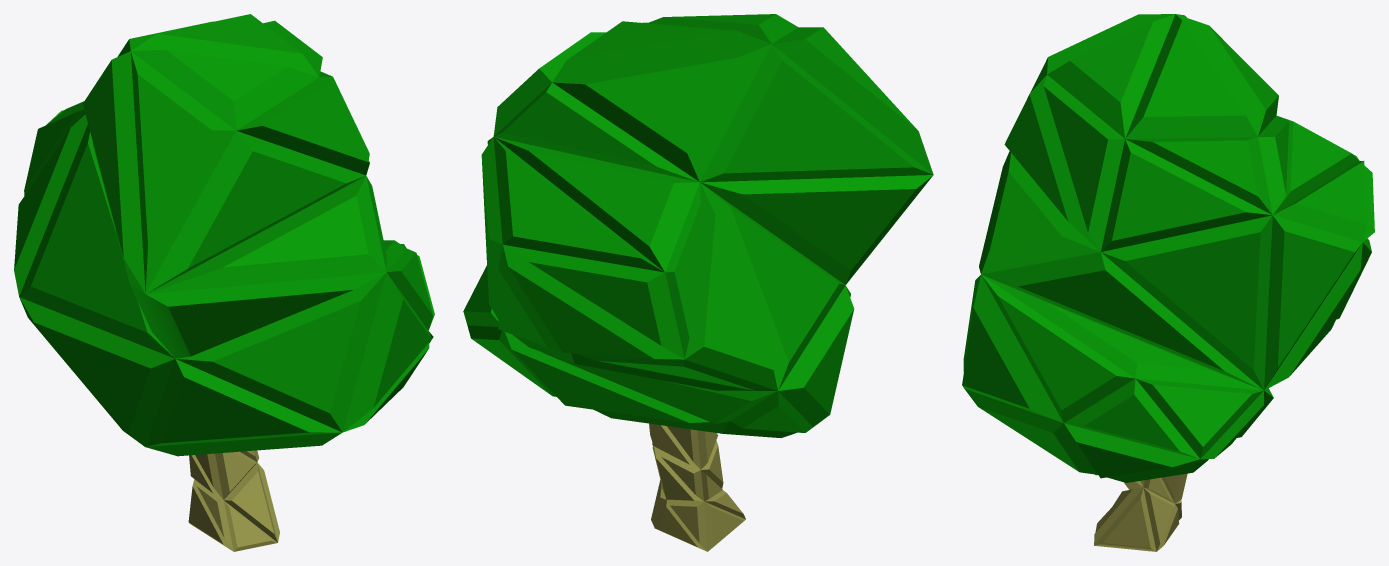
File: medium_tree_v2.fbx
The picture shows the model from 3 angles, left to right: view 1: azimuth 30°, elevation 25°; view 2: azimuth 150°, elevation 25°; view 3: azimuth 270°, elevation 25°; orthographic projection. The views are drawn at different scales.
Parts seen in each view (by area): view 1: polySurface1; view 2: polySurface1; view 3: polySurface1.
Boxes of the visible parts, bbox=[...] form: polySurface1: bbox=[14, 14, 434, 551]; polySurface1: bbox=[463, 14, 933, 551]; polySurface1: bbox=[962, 14, 1374, 551].
Size of the model in its own units: 51.86 by 70.37 by 53.9.
